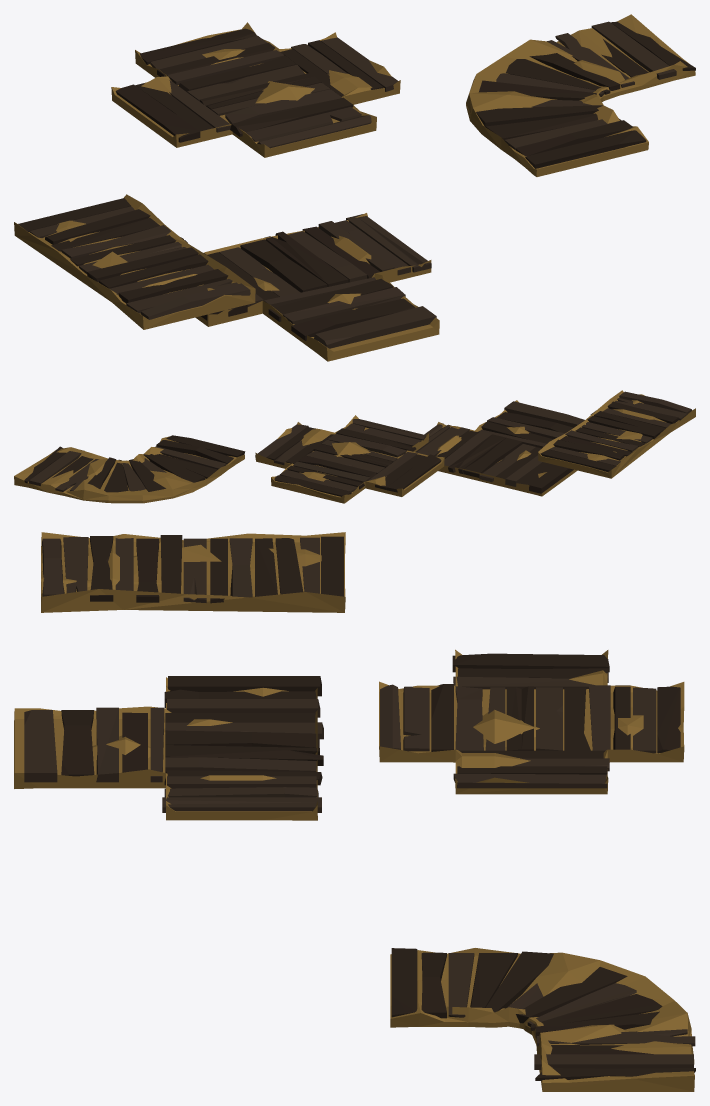
Rendered from wood_road.glb.
3 renders of one model, top to bottom at view 1: azimuth 30°, elevation 25°; view 2: azimuth 150°, elevation 25°; view 3: azimuth 270°, elevation 25°, orthographic. The views are drawn at different scales.
Parts seen in each view (by area): view 1: Road_wood_3, road_wood_1, Road_wood_2, Road_wood_4; view 2: Road_wood_3, road_wood_1, Road_wood_2, Road_wood_4; view 3: Road_wood_2, Road_wood_3, road_wood_1, Road_wood_4.
Part boxes in pixels (bbox=[...]): Road_wood_3: bbox=[111, 22, 400, 157]; road_wood_1: bbox=[466, 14, 695, 176]; Road_wood_2: bbox=[195, 213, 439, 361]; Road_wood_4: bbox=[14, 194, 255, 329]; Road_wood_3: bbox=[255, 415, 444, 503]; road_wood_1: bbox=[14, 435, 245, 503]; Road_wood_2: bbox=[415, 400, 584, 496]; Road_wood_4: bbox=[538, 390, 695, 478]; Road_wood_2: bbox=[14, 676, 323, 820]; Road_wood_3: bbox=[379, 649, 684, 794]; road_wood_1: bbox=[390, 948, 695, 1091]; Road_wood_4: bbox=[41, 532, 345, 612].
Bounding box in the file's own units: 20.56 × 2.77 × 13.46.
4 materials, 4 textured.
